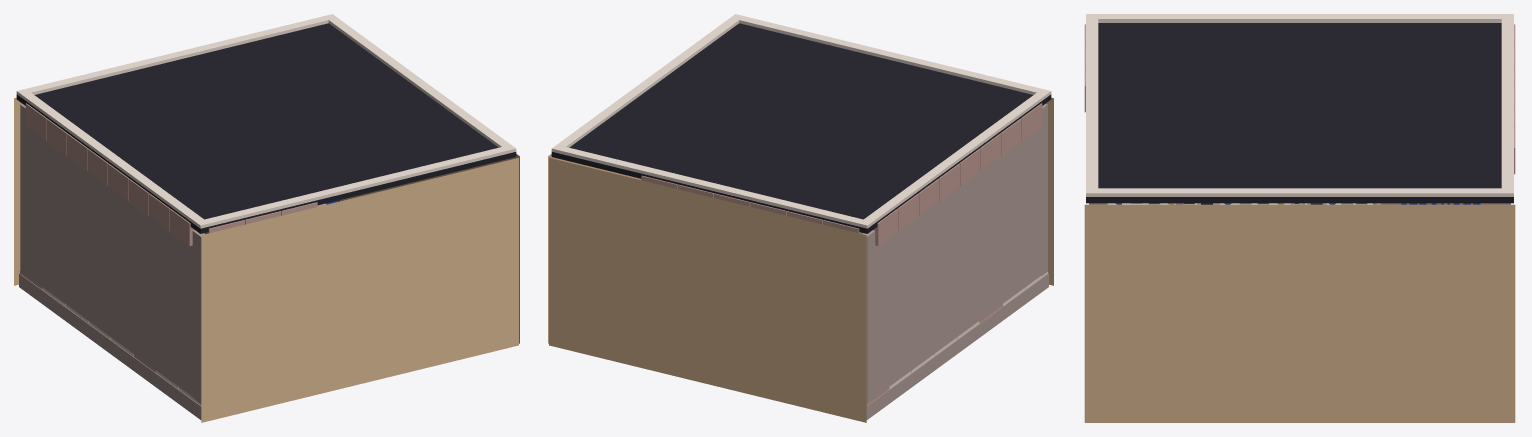
3 renders of one model, left to right at view 1: azimuth 30°, elevation 25°; view 2: azimuth 150°, elevation 25°; view 3: azimuth 270°, elevation 25°, orthographic. The views are drawn at different scales.
Visible parts, largest first — view 1: roof_pal_canvasTan, roof_pal_uiDark, interior_pal_sidewalk, roof_pal_picketWhite, interior_pal_infectedSkin, interior_pal_picketWhite; view 2: roof_pal_canvasTan, roof_pal_uiDark, interior_pal_sidewalk, roof_pal_picketWhite, interior_pal_infectedSkin, interior_pal_picketWhite; view 3: roof_pal_canvasTan, roof_pal_uiDark, roof_pal_picketWhite, interior_pal_infectedSkin.
Boxes of the visible parts, x1,y1,x2,y2 form: roof_pal_canvasTan: (14,97,519,422); roof_pal_uiDark: (16,23,516,233); interior_pal_sidewalk: (19,103,326,419); roof_pal_picketWhite: (16,14,516,228); interior_pal_infectedSkin: (20,103,317,372); interior_pal_picketWhite: (42,287,201,405); roof_pal_canvasTan: (548,97,1053,422); roof_pal_uiDark: (551,23,1051,233); interior_pal_sidewalk: (863,104,1048,419); roof_pal_picketWhite: (551,14,1051,228); interior_pal_infectedSkin: (641,103,1042,405); interior_pal_picketWhite: (889,272,1047,389); roof_pal_canvasTan: (1084,204,1515,422); roof_pal_uiDark: (1086,23,1513,203); roof_pal_picketWhite: (1086,14,1513,196); interior_pal_infectedSkin: (1084,24,1515,204).
Bounding box in the file's own units: 6.34 × 3.71 × 6.43.
